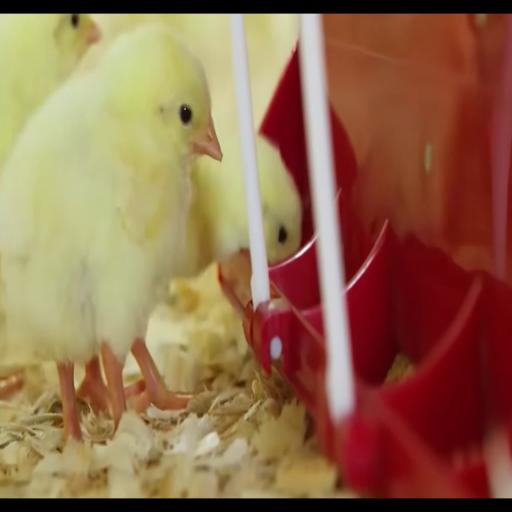chick: (0, 24, 222, 439), (0, 14, 100, 167), (173, 132, 249, 278), (174, 138, 249, 277)
